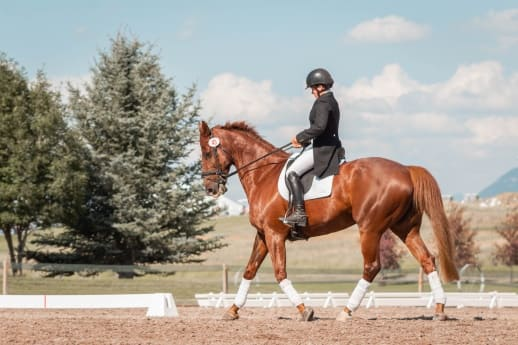horse: (199, 119, 455, 323)
person: (281, 68, 342, 227)
